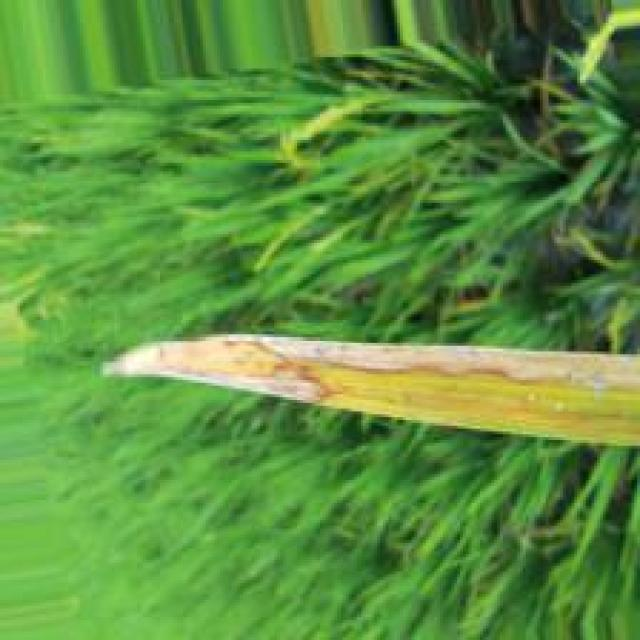Leaf_Scald: (102, 332, 640, 402)
